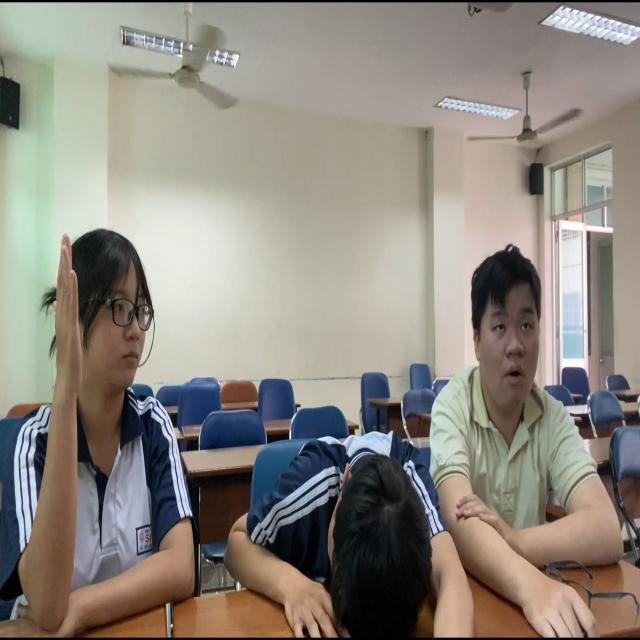raise_hand: (1, 184, 217, 640)
sleep: (233, 422, 488, 640)
